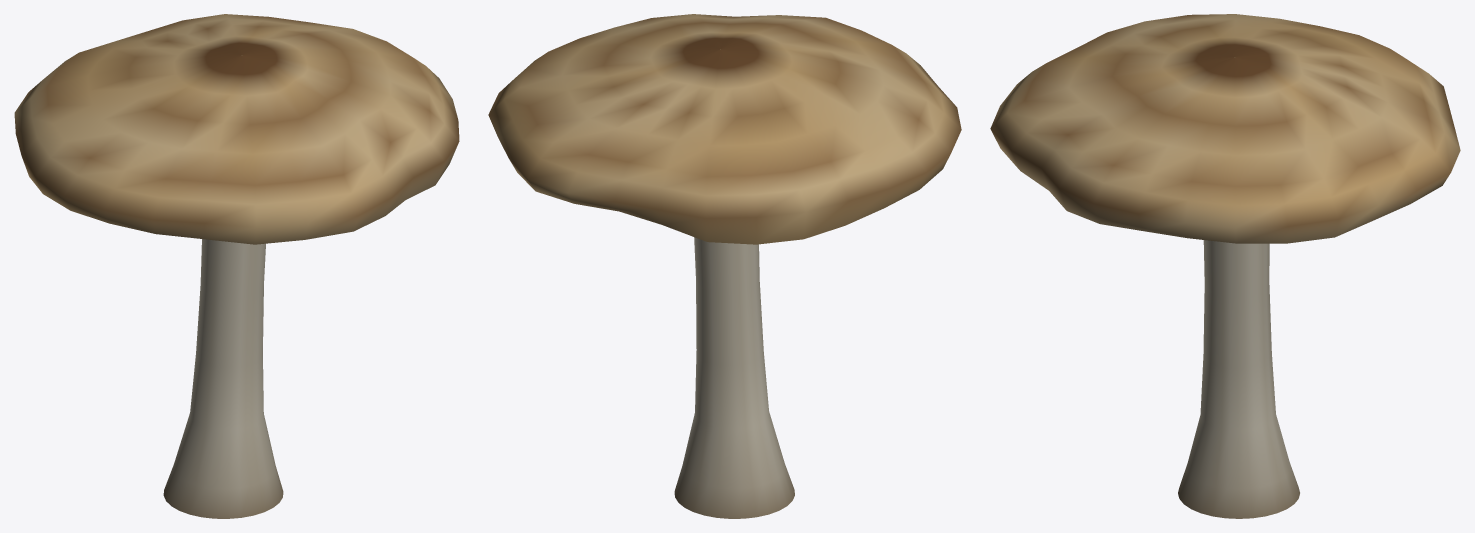
The model's file is mushroom-giant-parasol-b.glb.
The picture shows the model from 3 angles, left to right: view 1: azimuth 30°, elevation 25°; view 2: azimuth 150°, elevation 25°; view 3: azimuth 270°, elevation 25°; orthographic projection.
Visible parts, largest first — view 1: mushroom-giant-parasol-b; view 2: mushroom-giant-parasol-b; view 3: mushroom-giant-parasol-b.
Boxes of the visible parts, <box> form: mushroom-giant-parasol-b: <box>14,14,459,518</box>; mushroom-giant-parasol-b: <box>488,14,961,518</box>; mushroom-giant-parasol-b: <box>990,14,1460,518</box>.
Bounding box in the file's own units: 1.21 × 1.25 × 1.2.
